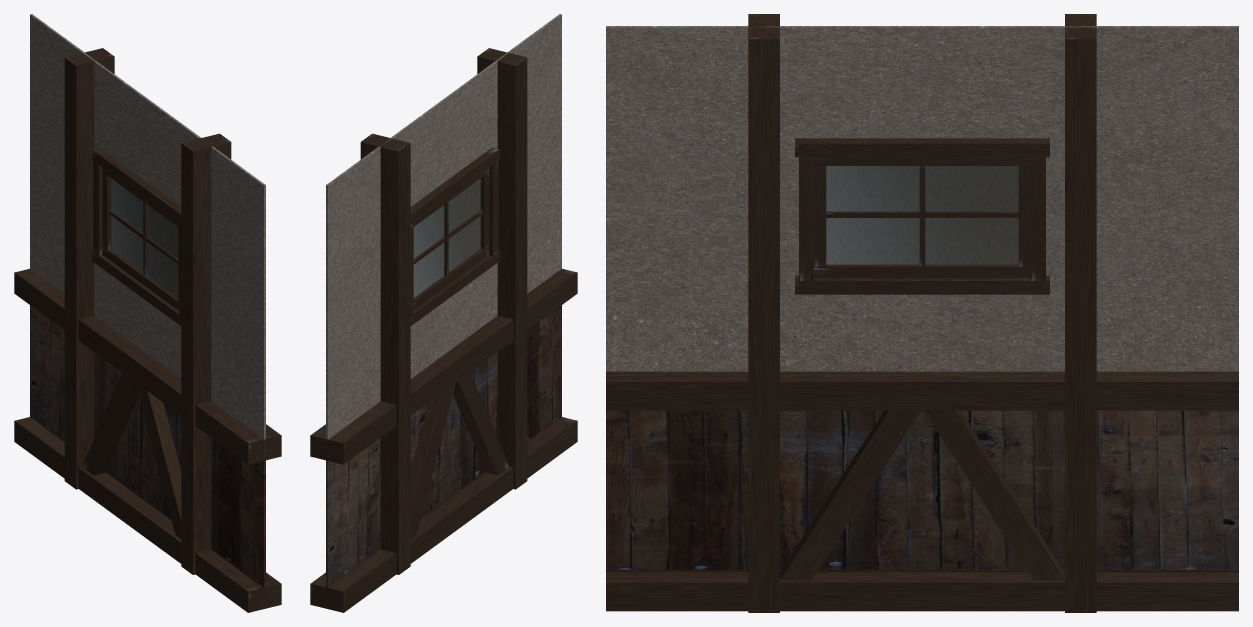
Rendered from OutdoorArchitecture_BasicWall02_Window03_NoEdges_BShortt.fbx.
The picture shows the model from 3 angles, left to right: view 1: azimuth 30°, elevation 25°; view 2: azimuth 150°, elevation 25°; view 3: azimuth 270°, elevation 25°; orthographic projection. The views are drawn at different scales.
Visible parts, largest first — view 1: OutdoorArchitecture_BasicWall02_Window03_NoEdges_BShortt; view 2: OutdoorArchitecture_BasicWall02_Window03_NoEdges_BShortt; view 3: OutdoorArchitecture_BasicWall02_Window03_NoEdges_BShortt.
Boxes of the visible parts, x1,y1,x2,y2 form: OutdoorArchitecture_BasicWall02_Window03_NoEdges_BShortt: (14, 14, 281, 612); OutdoorArchitecture_BasicWall02_Window03_NoEdges_BShortt: (310, 14, 577, 612); OutdoorArchitecture_BasicWall02_Window03_NoEdges_BShortt: (606, 14, 1238, 612).
Size of the model in its own units: 28.5 by 300 by 300.
